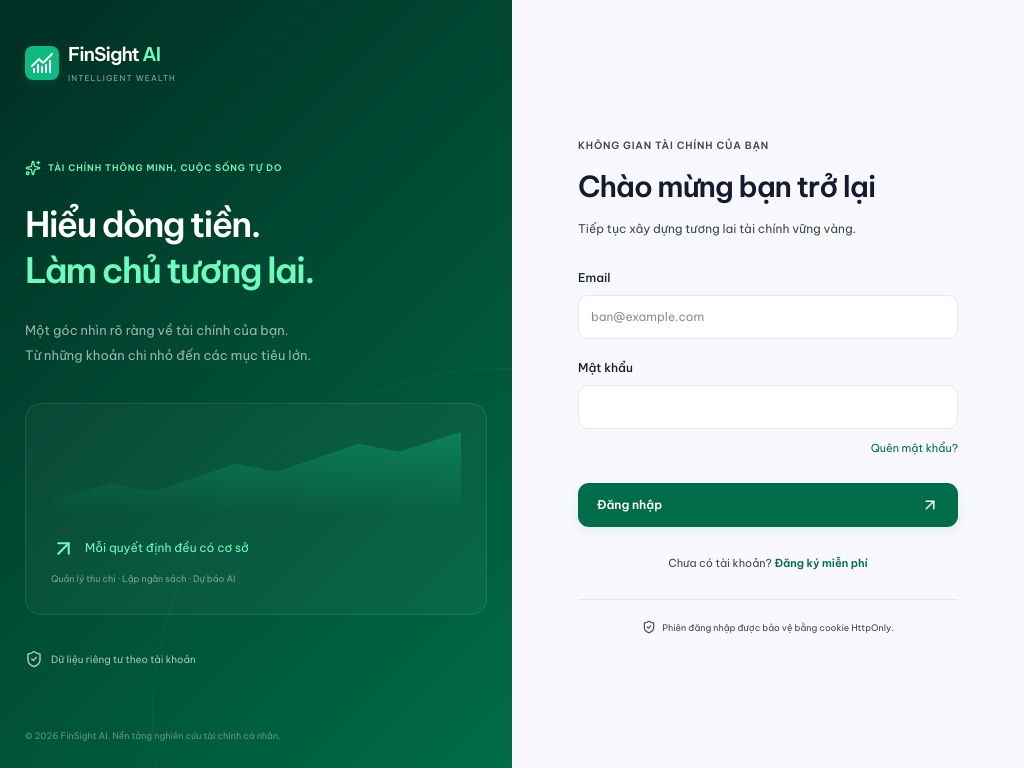
Test case: Authentication forms › surfaces backend login errors accessibly
Type "an@example.com" into the field labelled "Email" at (768, 318), box [578,296,958,340]
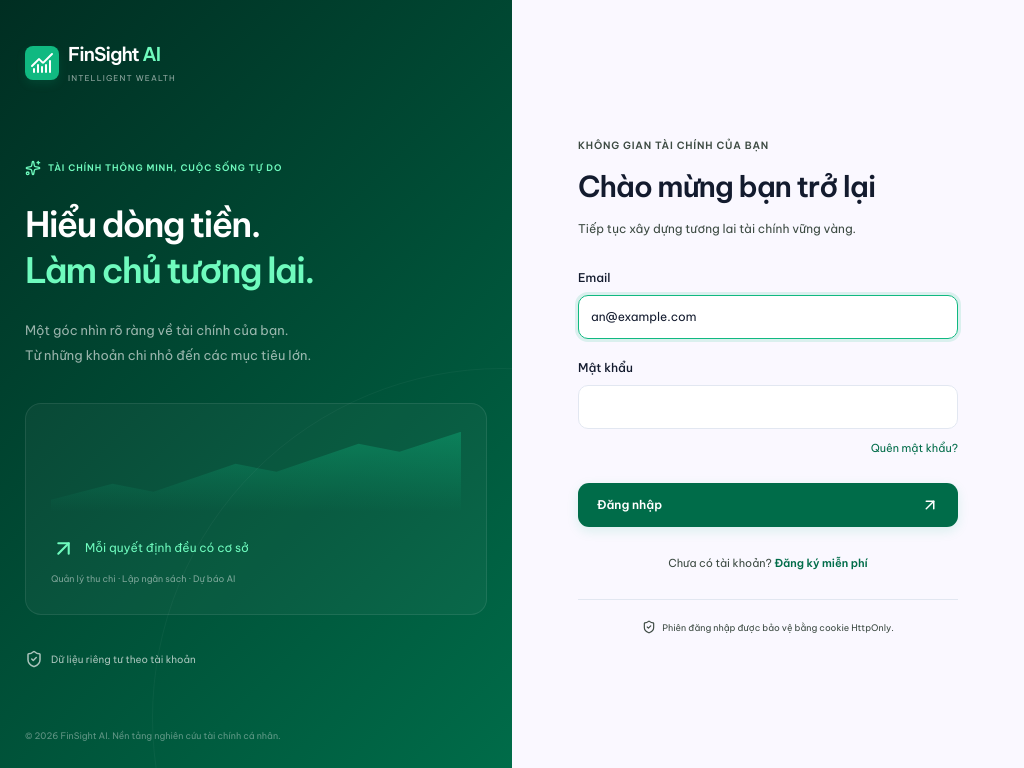
Type "Password123!" into the password field labelled "Mật khẩu" at (768, 408), box [578,386,958,430]
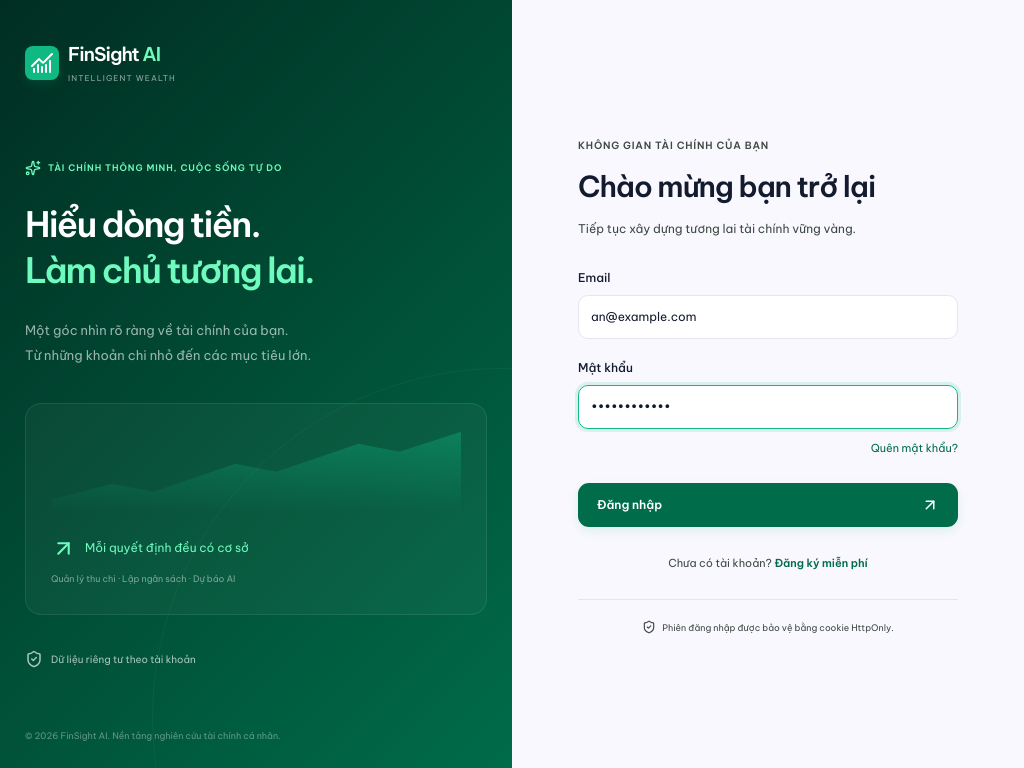
Click the button "Đăng nhập" at (630, 504), box [578,483,958,527]
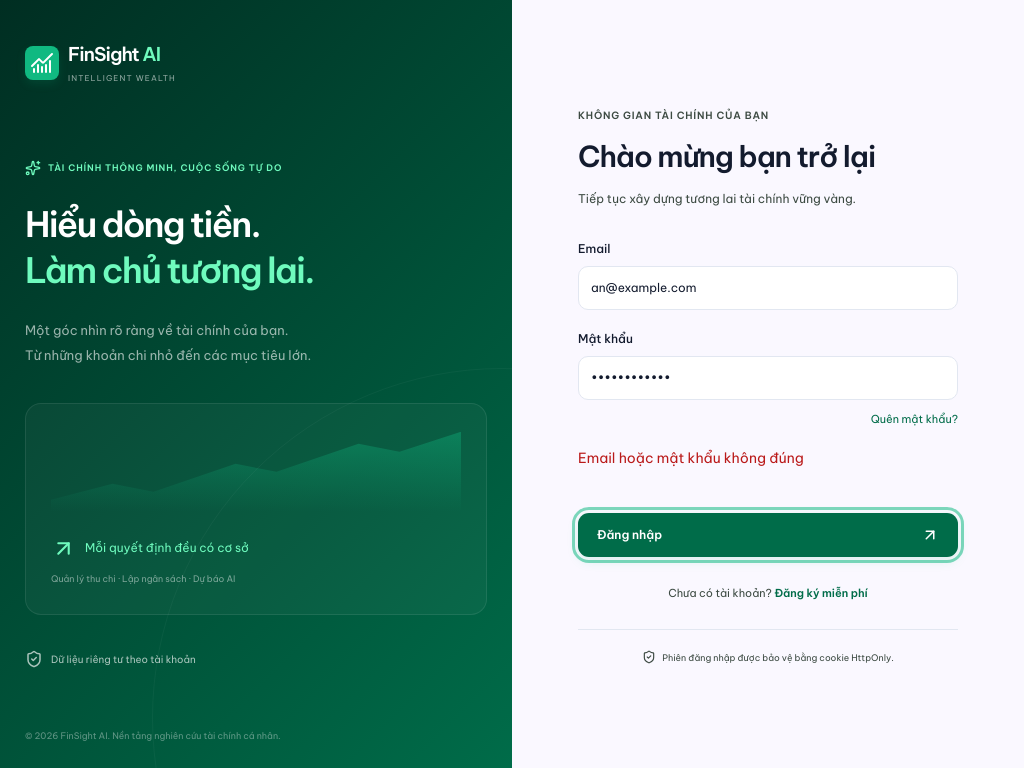
Now the message shows "không đúng", box [578,449,804,467]
